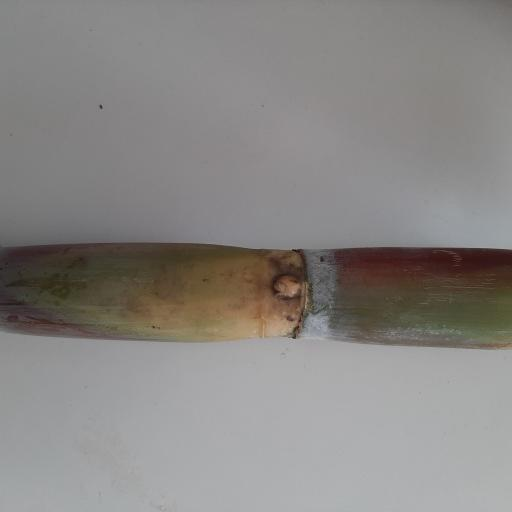Bud: (270, 274, 305, 299)
